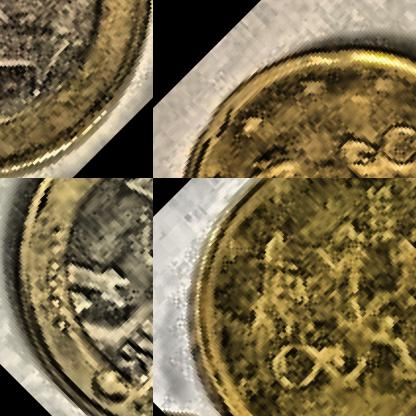coin: (153, 178, 415, 415), (153, 0, 415, 177), (0, 178, 152, 415), (0, 0, 152, 177)
